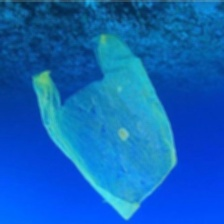plastic_bag: (26, 26, 182, 222)
